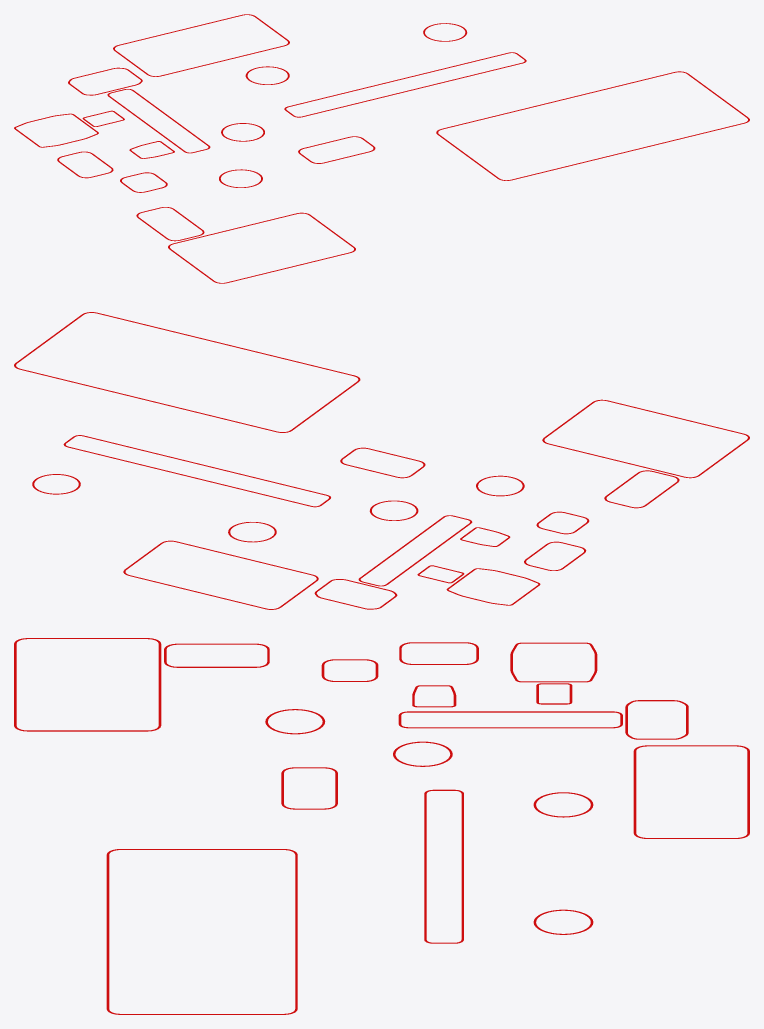
The model's file is SM_instruktion.FBX.
3 renders of one model, top to bottom at view 1: azimuth 30°, elevation 25°; view 2: azimuth 150°, elevation 25°; view 3: azimuth 270°, elevation 25°, orthographic. The views are drawn at different scales.
Visible parts, largest first — view 1: SM_instruktion_LOD0; view 2: SM_instruktion_LOD0; view 3: SM_instruktion_LOD0.
Part boxes in pixels (x1=…): SM_instruktion_LOD0: x1=14, y1=14, x2=749, y2=283; SM_instruktion_LOD0: x1=14, y1=312, x2=749, y2=609; SM_instruktion_LOD0: x1=14, y1=638, x2=749, y2=1014.
Size of the model in its own units: 2411 by 0.5066 by 1990.
